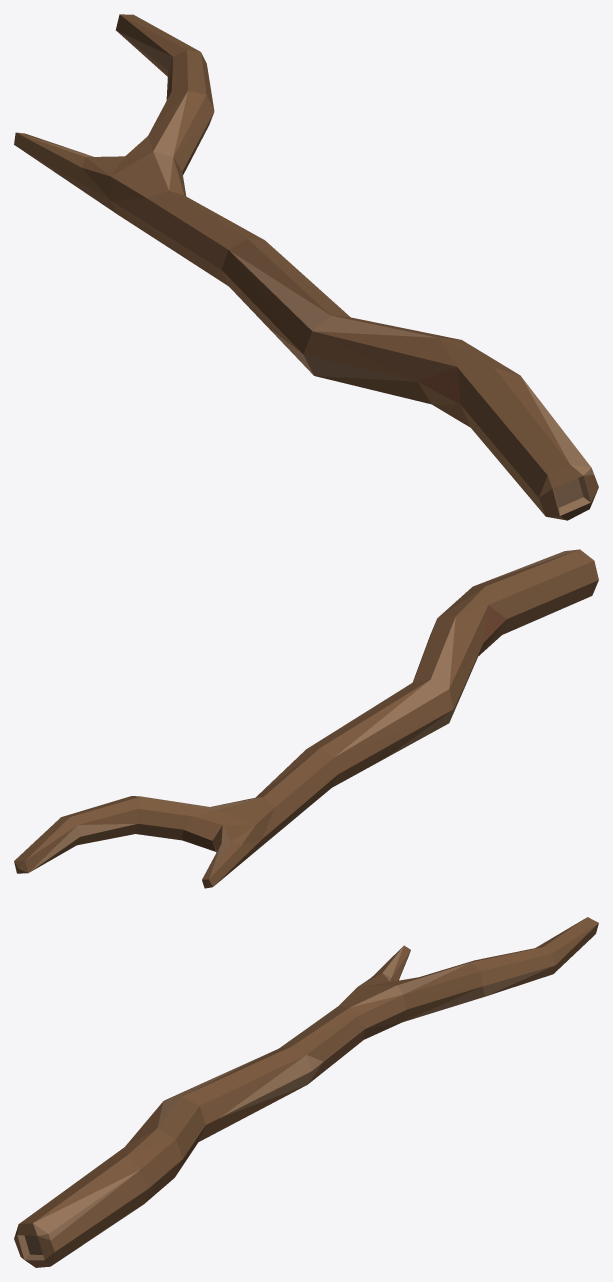
Rendered from mesh_stick_01.fbx.
3 renders of one model, top to bottom at view 1: azimuth 30°, elevation 25°; view 2: azimuth 150°, elevation 25°; view 3: azimuth 330°, elevation 25°, orthographic. The views are drawn at different scales.
Visible parts, largest first — view 1: mesh_stick_01; view 2: mesh_stick_01; view 3: mesh_stick_01.
Boxes of the visible parts, x1=… form: mesh_stick_01: x1=14, y1=14, x2=598, y2=520; mesh_stick_01: x1=14, y1=549, x2=598, y2=888; mesh_stick_01: x1=14, y1=917, x2=598, y2=1267.
Bounding box in the file's own units: 0.1392 × 0.0567 × 0.6929.
